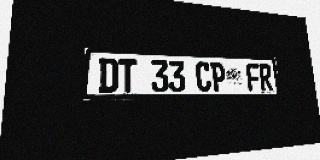3: (151, 60, 169, 92), (168, 60, 186, 92)
C: (195, 61, 212, 92)
D: (98, 58, 118, 93)
F: (246, 63, 261, 91)
P: (210, 62, 226, 91)
R: (259, 64, 273, 91)
T: (119, 59, 137, 92)
